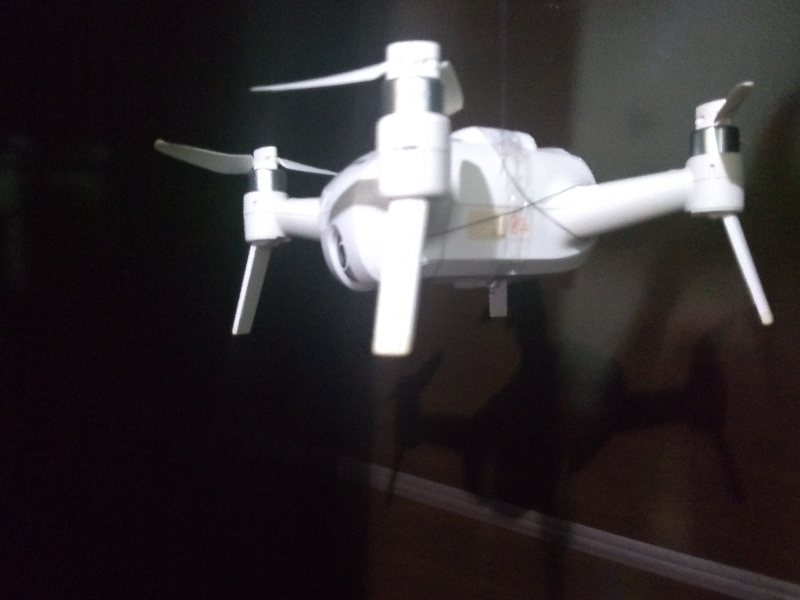drone: (190, 33, 780, 361)
